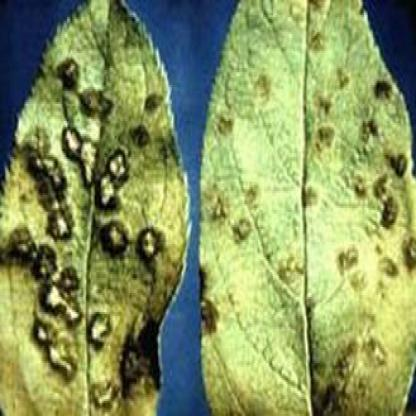Apple Scab Leaf: (194, 2, 414, 414), (1, 2, 200, 414)
